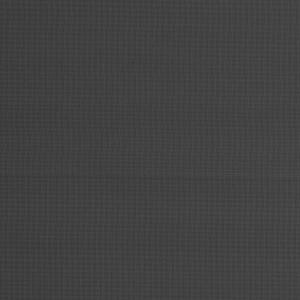Wrinkle: (1, 159, 300, 197)
